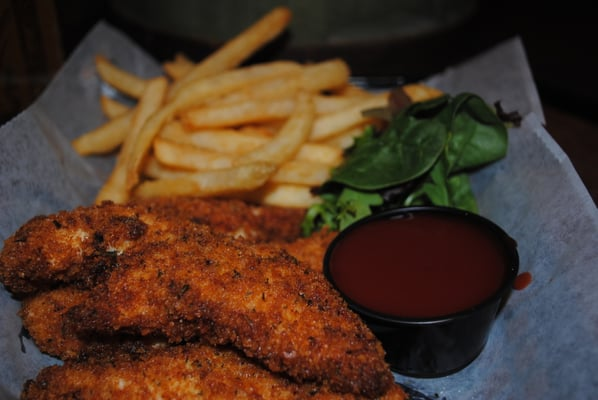sushi: (324, 206, 533, 379)
